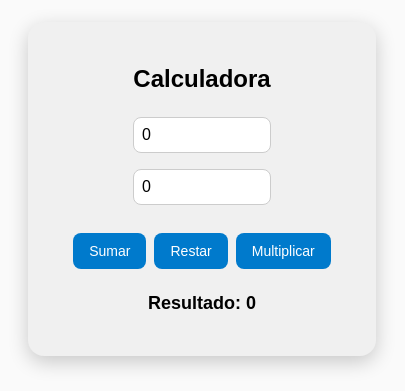
Test case: Calculator E2E - Initial state and operations › should allow entering values and calculate sum correctly
Replace the text in the 1st number field with "5": (202,136) 133,118 -> 271,154
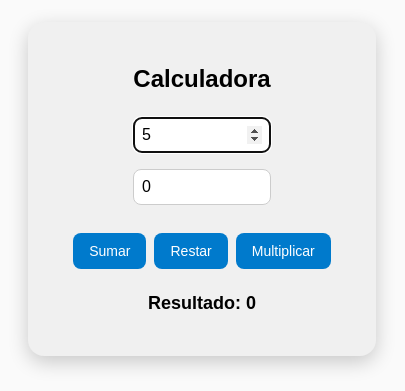
Replace the text in the 2nd number field with "3": (202,188) 133,170 -> 271,206
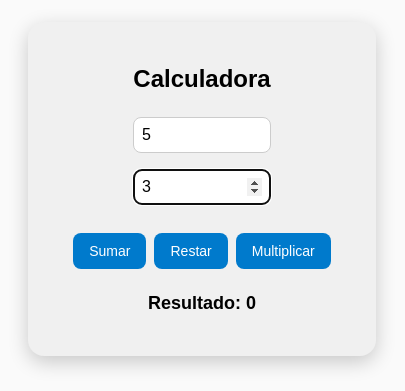
Click the button "Sumar": (110,252) 73,234 -> 146,270
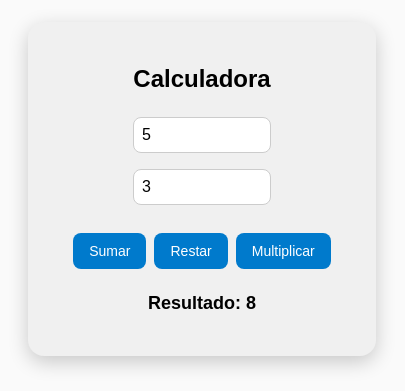
Result: the text "Resultado: 8" is shown at 148,294 -> 256,314
